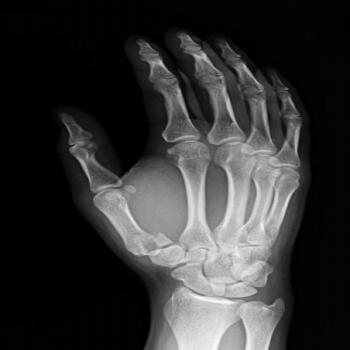Fracture: (143, 231, 174, 251)
